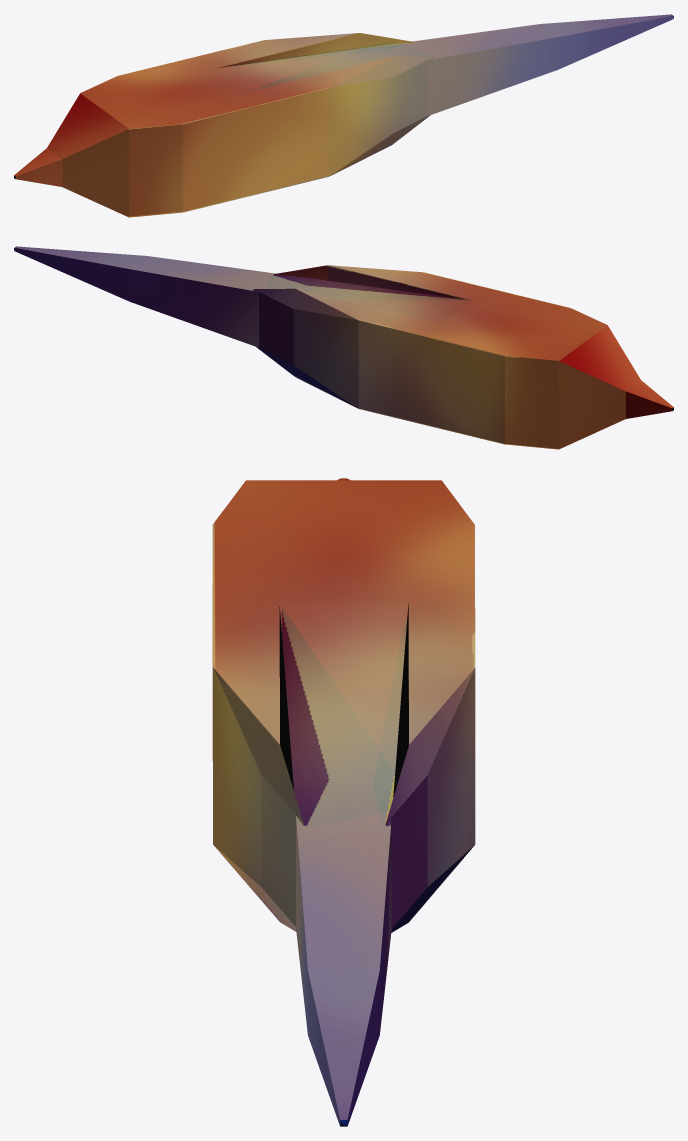
File: shot.obj
3 renders of one model, top to bottom at view 1: azimuth 30°, elevation 25°; view 2: azimuth 150°, elevation 25°; view 3: azimuth 270°, elevation 25°, orthographic. The views are drawn at different scales.
Visible parts, largest first — view 1: shot; view 2: shot; view 3: shot.
Boxes of the visible parts, x1=… form: shot: x1=14, y1=14, x2=673, y2=217; shot: x1=14, y1=246, x2=673, y2=449; shot: x1=212, y1=478, x2=475, y2=1126.
Bounding box in the file's own units: 1.86 × 0.2391 × 0.3213.
1 material, 1 textured.
